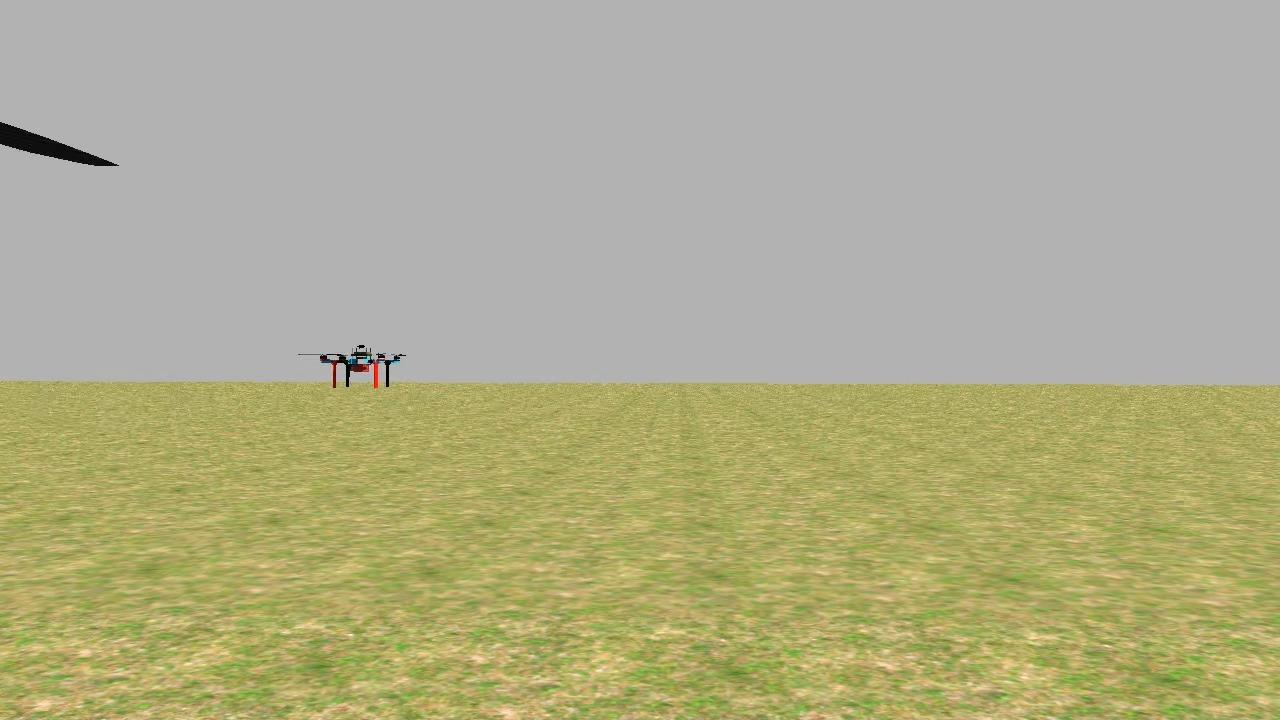UAV: (316, 342, 402, 390)
